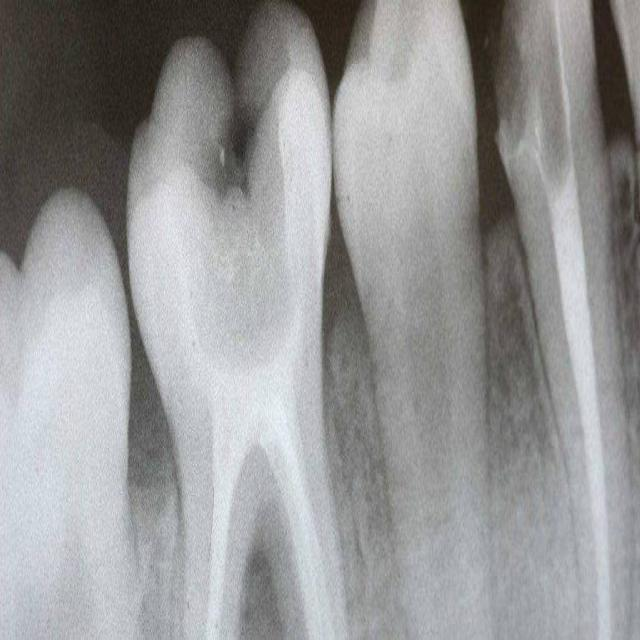Caries: (132, 7, 329, 640)
